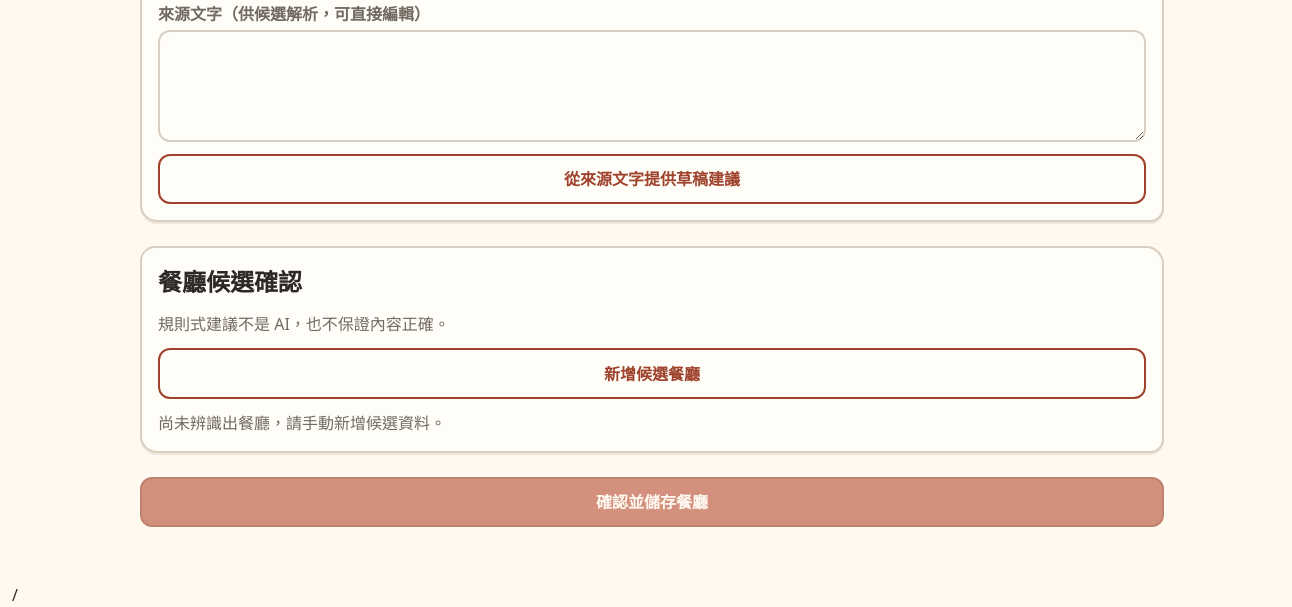
Test: ImportRestaurantPage › retries only the source after a partial failure, then navigates after it succeeds
This screenshot has width=1292, height=607.
(page scrolled)
Click the button "新增候選餐廳": (652, 374) [158,348,1146,399]
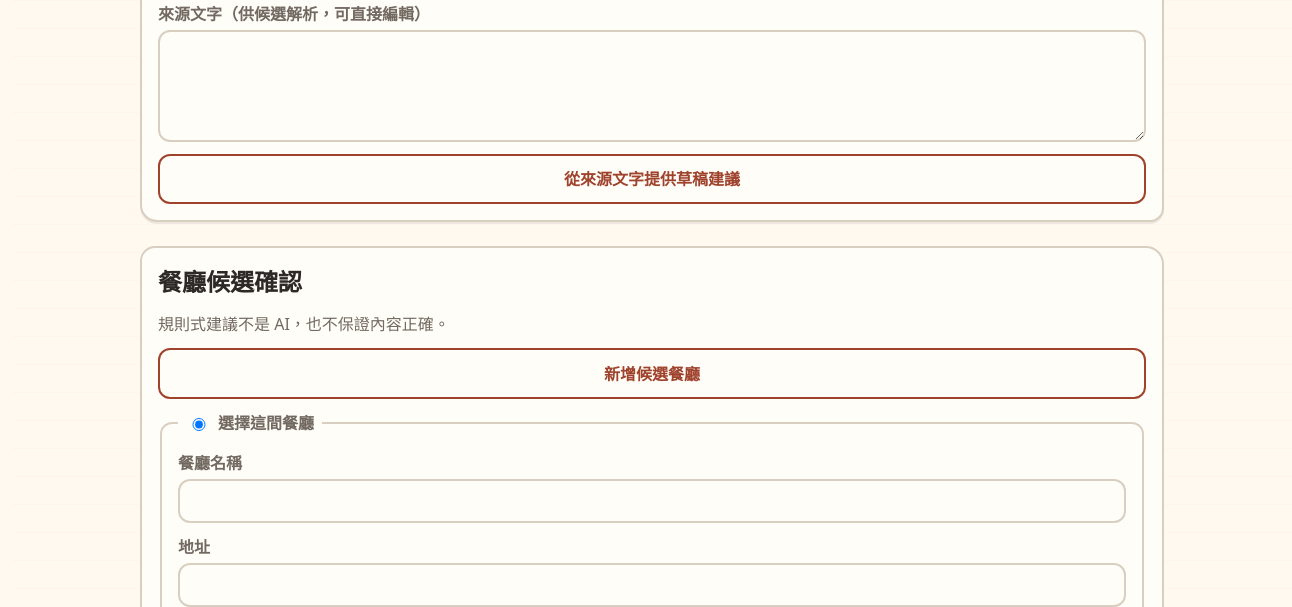
In the field labelled "餐廳名稱": (652, 501) [178,479,1126,523], type "Food Map Cafe"
(page scrolled)
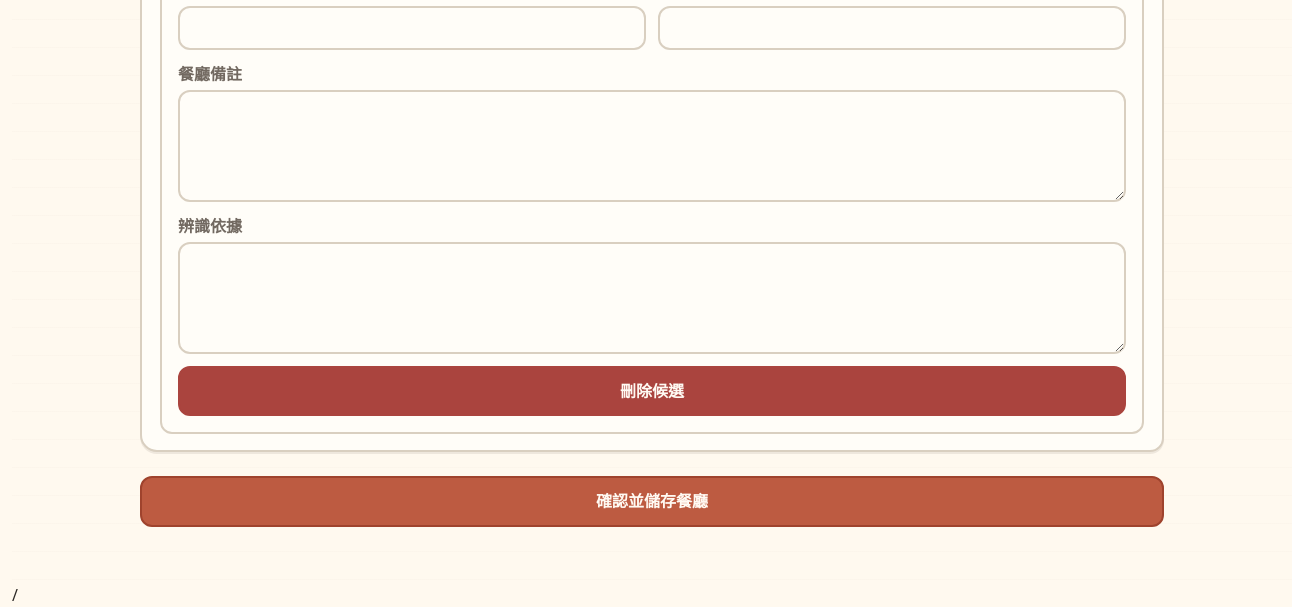
Click the button "確認並儲存餐廳": (652, 501) [140,476,1164,527]
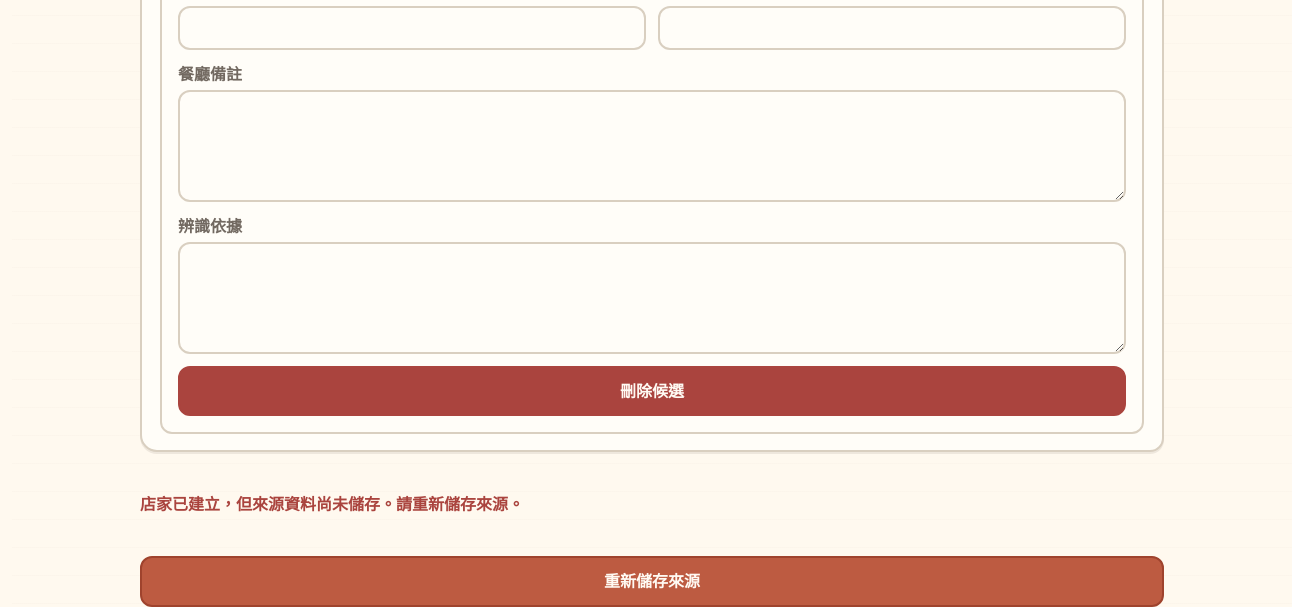
Expected: the message shows "店家已建立，但來源資料尚未儲存", [140,493,524,515]
Click the button "重新儲存來源": (652, 581) [140,556,1164,606]
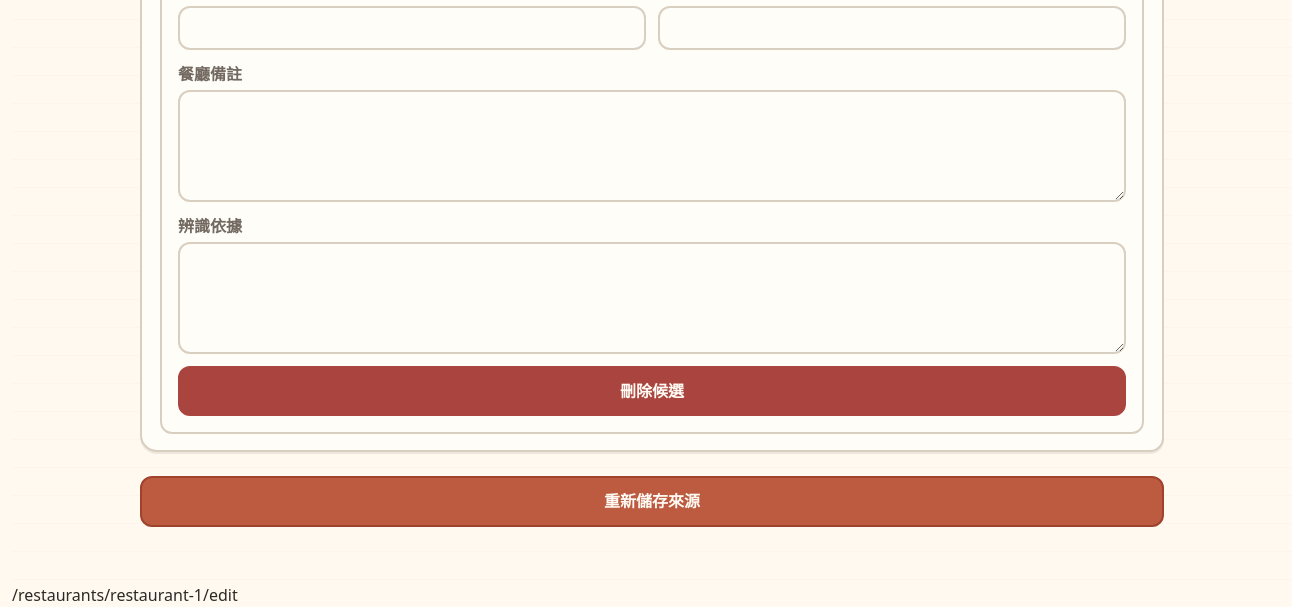
Expected: the text with test id "location-path" reads "/restaurants/restaurant-1/edit", [12,584,238,606]
